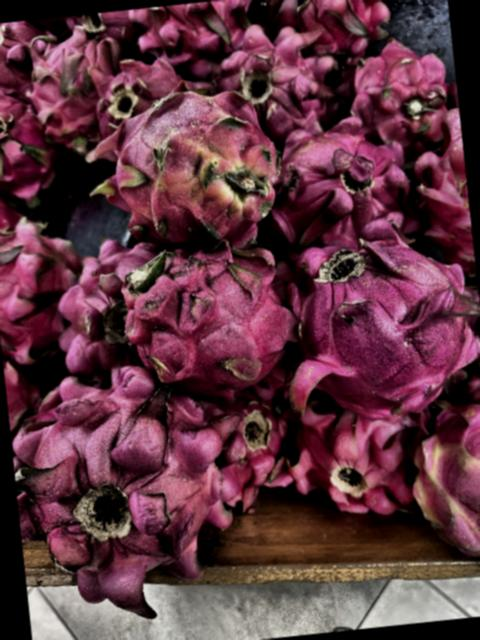buah-naga-belum-matang: (95, 86, 287, 252), (399, 403, 480, 566)
buah-naga-matang: (5, 360, 239, 635), (275, 212, 480, 423), (103, 241, 306, 411), (269, 112, 424, 254), (282, 384, 416, 532), (206, 17, 344, 137), (11, 26, 123, 156), (0, 210, 90, 371), (343, 30, 457, 156), (125, 0, 253, 79), (258, 0, 399, 71), (0, 74, 65, 200), (80, 54, 184, 126)
